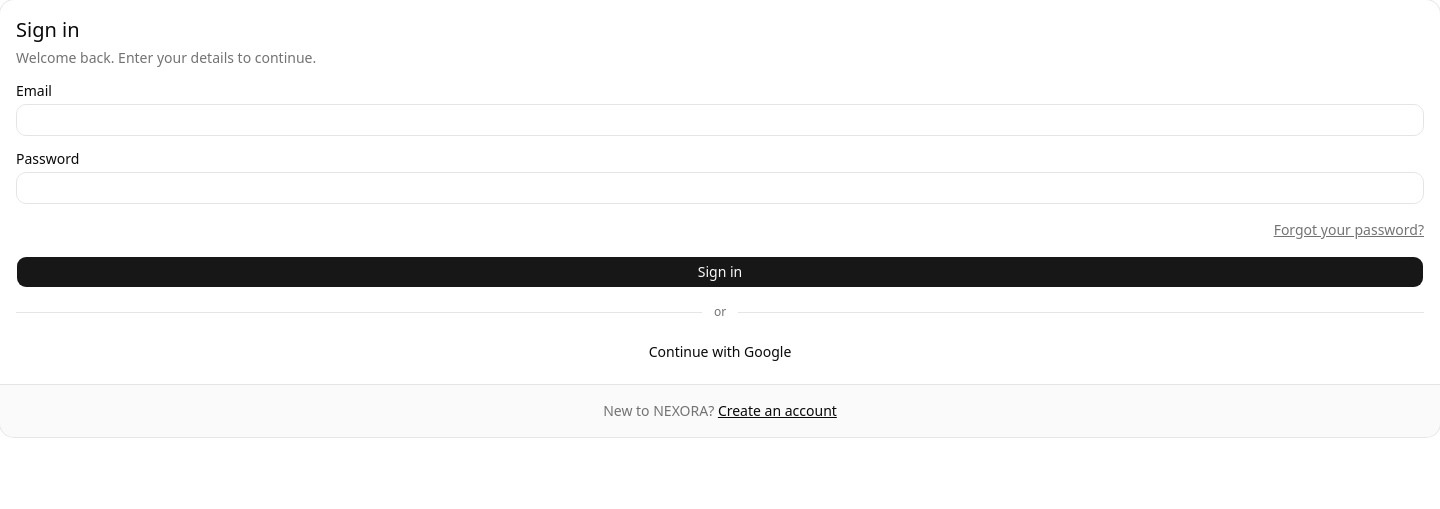
Test: LoginForm › does not leak unexpected errors, only a generic message
Step 1. Type "ada@example.com" into the field labelled "Email" → x=720, y=120, box [16,104,1424,136]
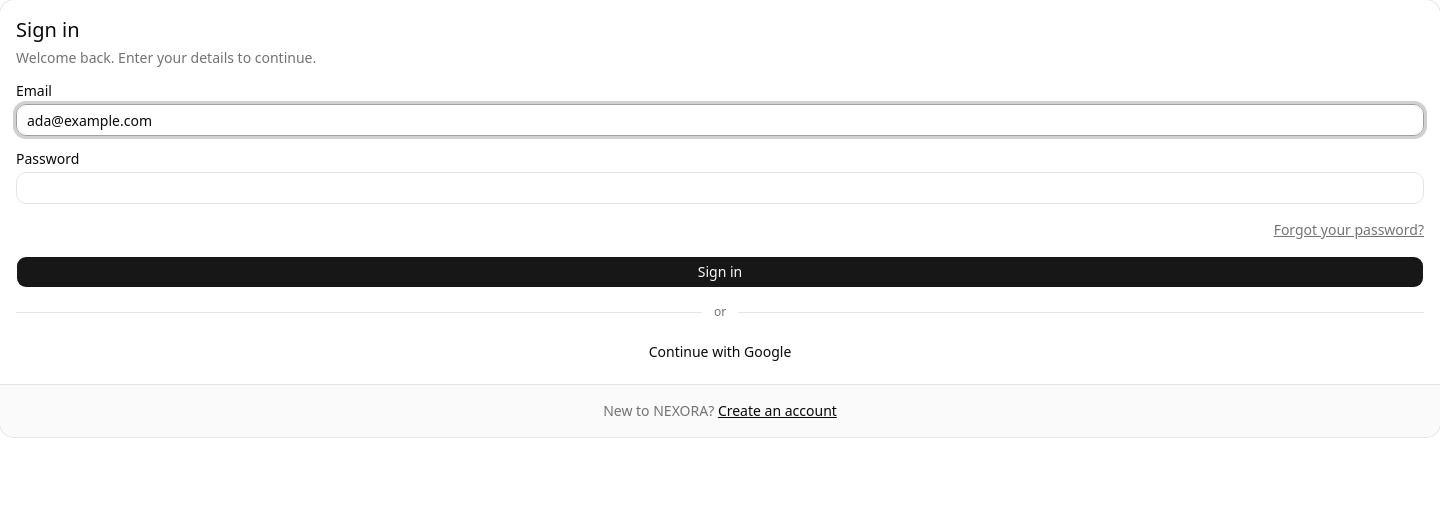
Step 2. Type "x" into the password field labelled "Password" → x=720, y=188, box [16,172,1424,204]
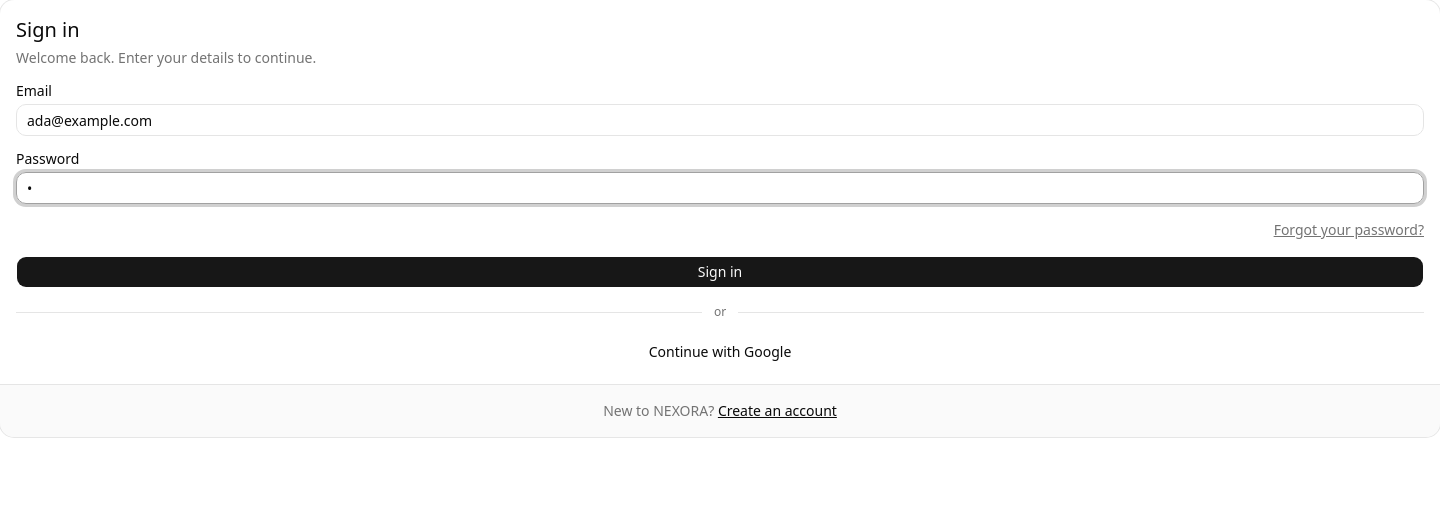
Step 3. Click the button "Sign in" → x=720, y=272, box [16,256,1424,288]
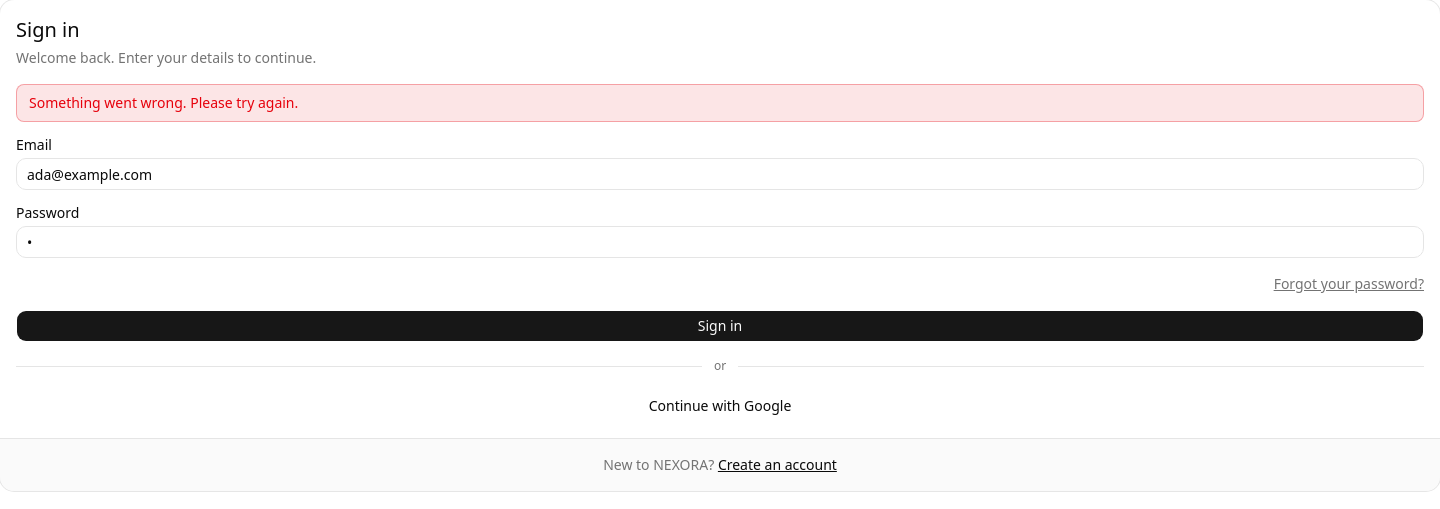
Check: the message shows "Something went wrong", box [29,93,298,112]
